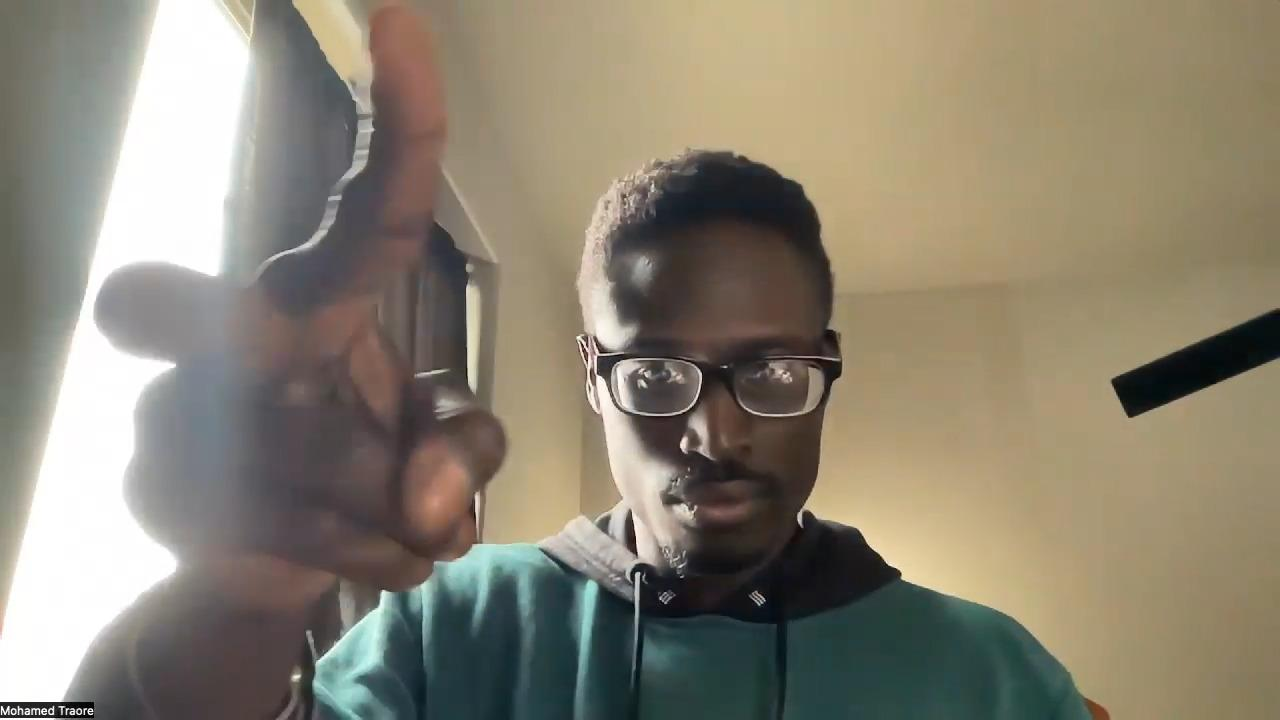Scissors: (90, 0, 509, 621)
